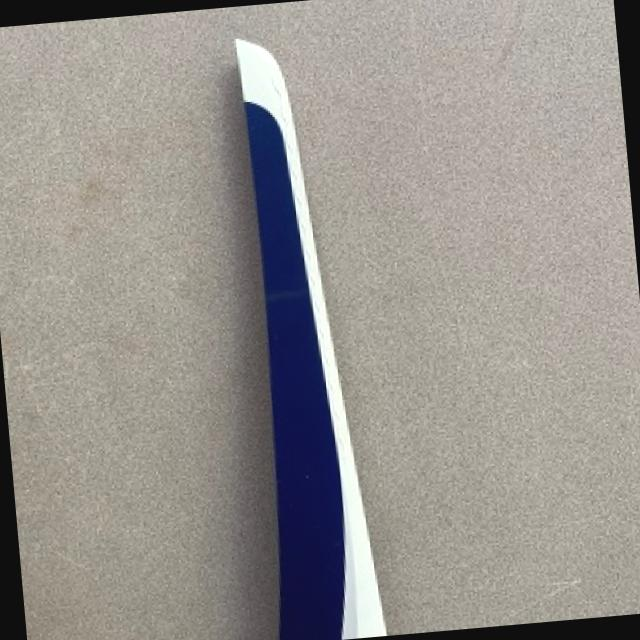healthy: (235, 38, 384, 640)
